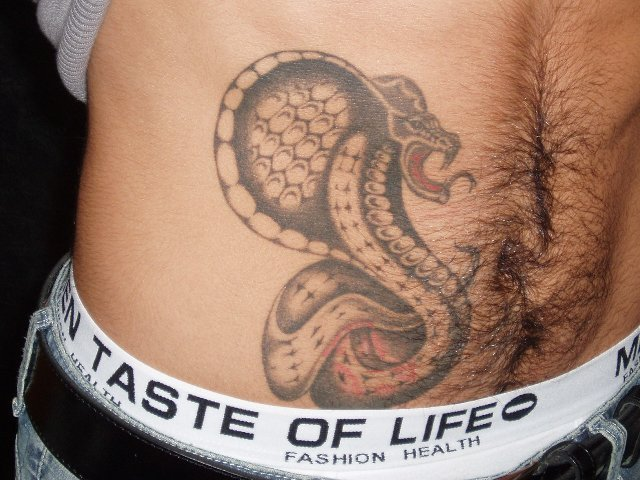tatu7_zmeya: (201, 30, 475, 421)
